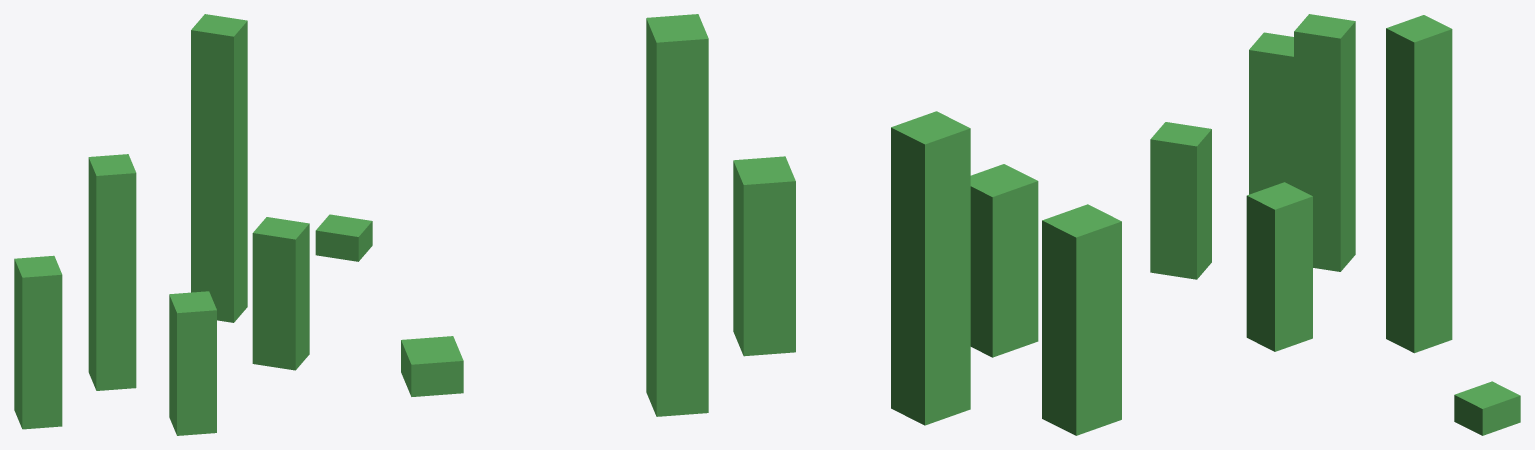
The model's file is Plant_B_01.FBX.
3 views of the same model, side by side, from view 1: azimuth 30°, elevation 25°; view 2: azimuth 150°, elevation 25°; view 3: azimuth 270°, elevation 25° (orthographic). The views are drawn at different scales.
Visible parts, largest first — view 1: Plant_B_01; view 2: Plant_B_01; view 3: Plant_B_01.
Part boxes in pixels (x1,y1,x2,y2): Plant_B_01: (14, 14, 372, 435); Plant_B_01: (401, 14, 1121, 435); Plant_B_01: (1150, 14, 1520, 435).
Bounding box in the file's own units: 0.9664 × 0.5864 × 0.6329.
